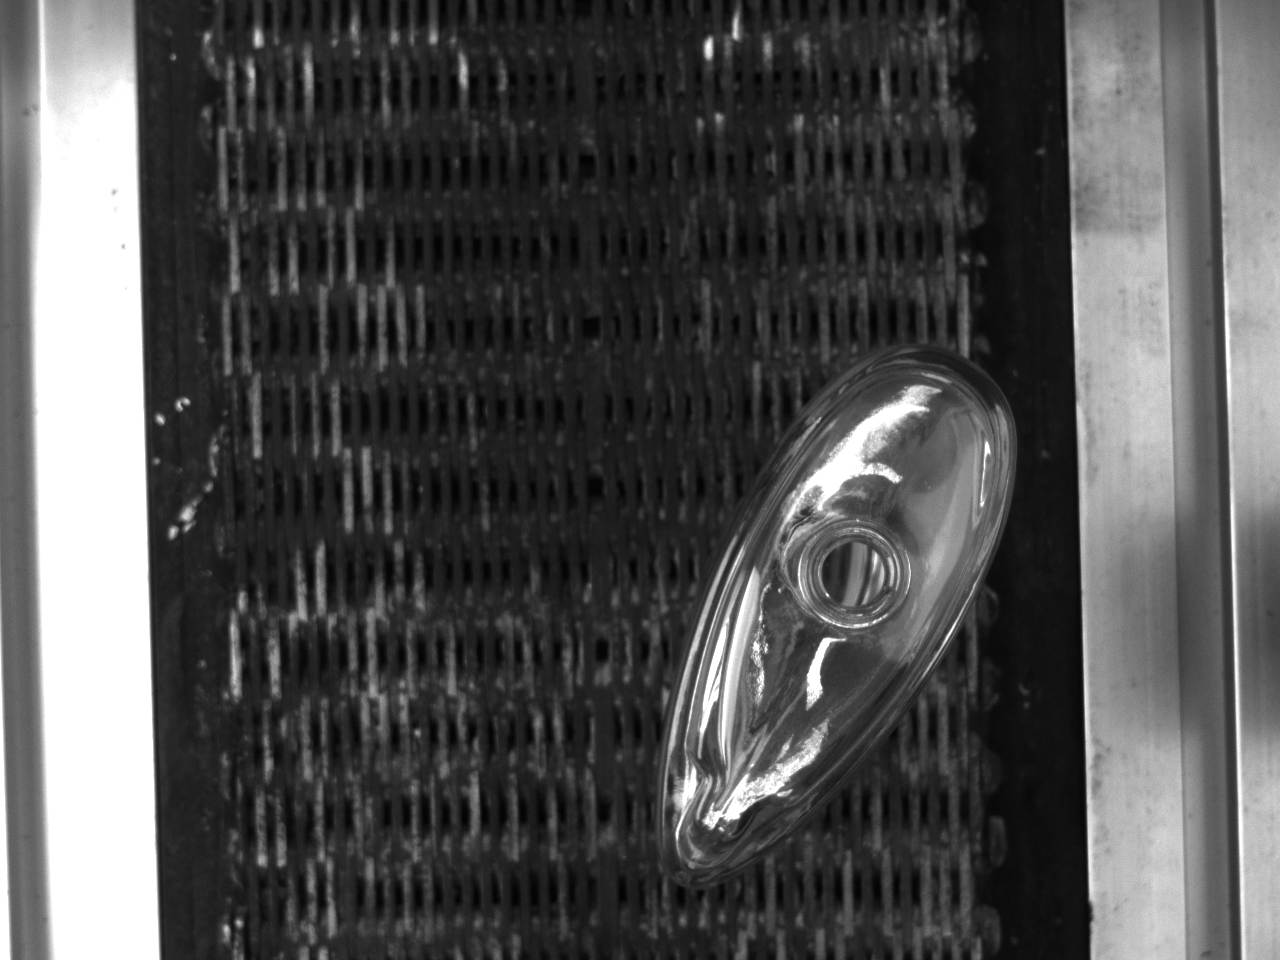bottleneck: (797, 521, 913, 628)
